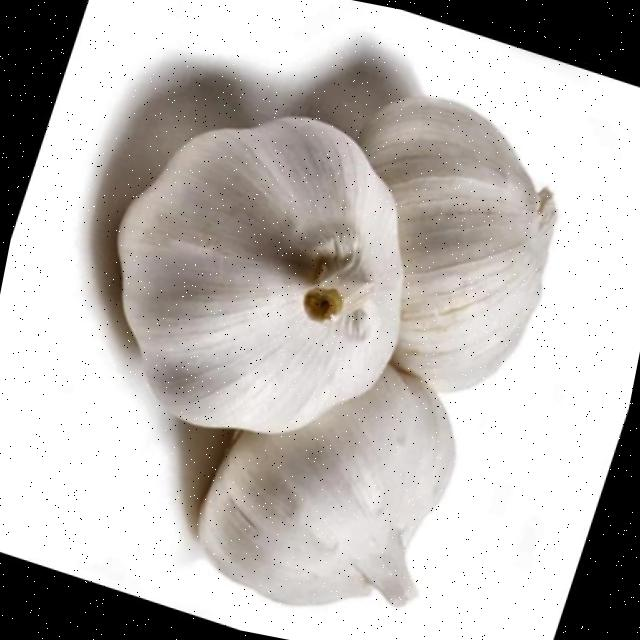garlic: (117, 117, 402, 434), (197, 366, 454, 606), (359, 97, 556, 392)
